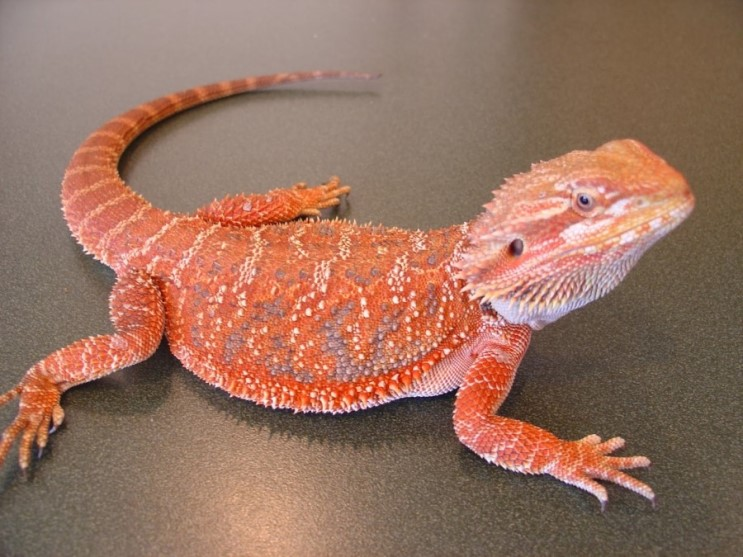bearded: (1, 71, 701, 517)
